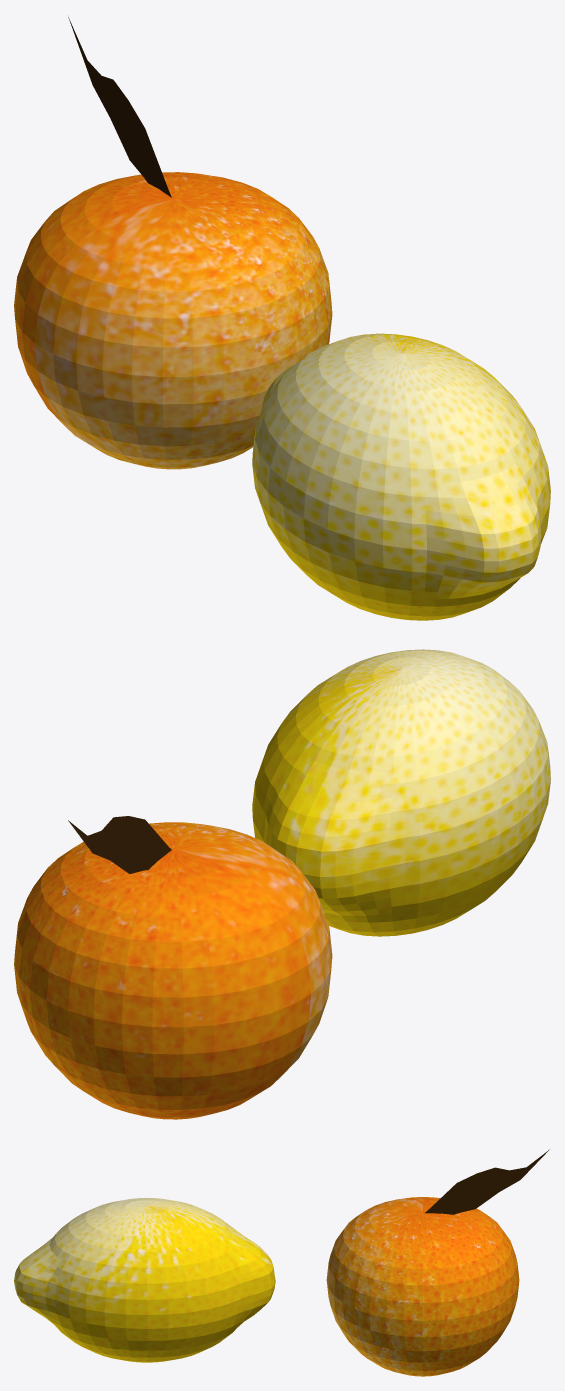
Rendered from orange.gltf.
3 renders of one model, top to bottom at view 1: azimuth 30°, elevation 25°; view 2: azimuth 150°, elevation 25°; view 3: azimuth 270°, elevation 25°, orthographic. The views are drawn at different scales.
Parts seen in each view (by area): view 1: Sphere; view 2: Sphere; view 3: Sphere.
Boxes of the visible parts, x1=… form: Sphere: x1=14, y1=17, x2=550, y2=620; Sphere: x1=14, y1=649, x2=550, y2=1119; Sphere: x1=14, y1=1149, x2=549, y2=1376.
Size of the model in its own units: 1.29 by 1.62 by 3.6.
Materials: 3 (2 with a texture image).
